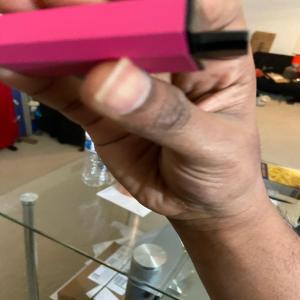Blume-E-Ciggirate: (0, 0, 258, 79)
